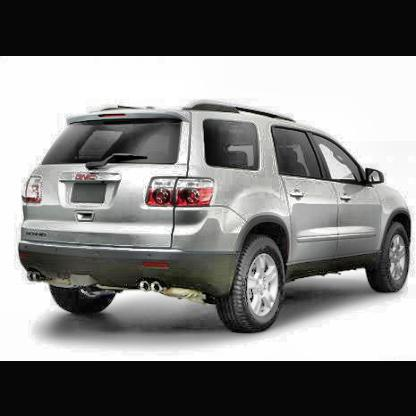GMC Acadia SUV 2012: (19, 101, 415, 336)
